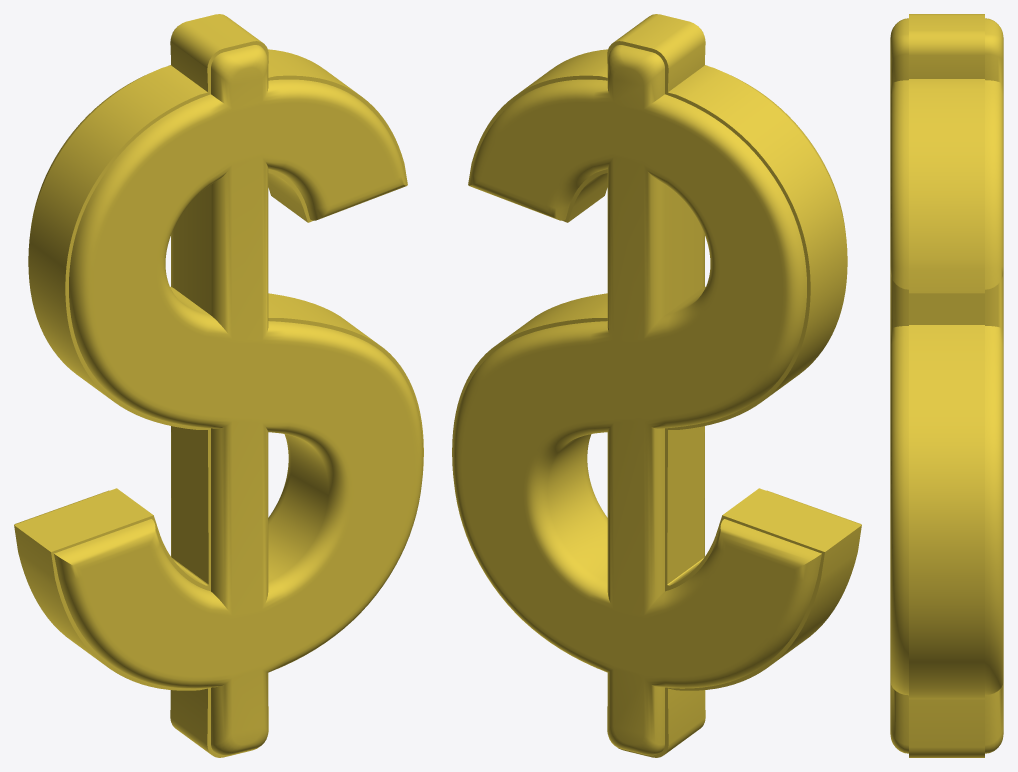
File: DollarSign-transformed.glb
3 views of the same model, side by side, from view 1: azimuth 30°, elevation 25°; view 2: azimuth 150°, elevation 25°; view 3: azimuth 270°, elevation 25° (orthographic). The views are drawn at different scales.
Visible parts, largest first — view 1: doller_0; view 2: doller_0; view 3: doller_0.
Boxes of the visible parts, x1,y1,x2,y2 form: doller_0: [14, 14, 423, 757]; doller_0: [452, 14, 861, 757]; doller_0: [890, 14, 1003, 757].
Size of the model in its own units: 1.28 by 2.33 by 0.3288.
